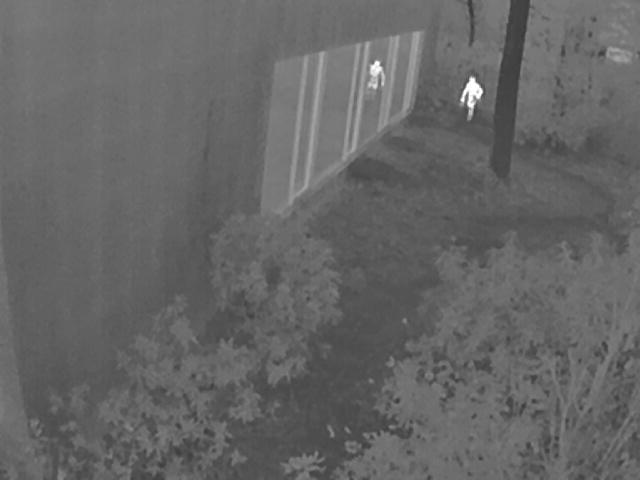person: (462, 75, 486, 119), (367, 59, 388, 95)
